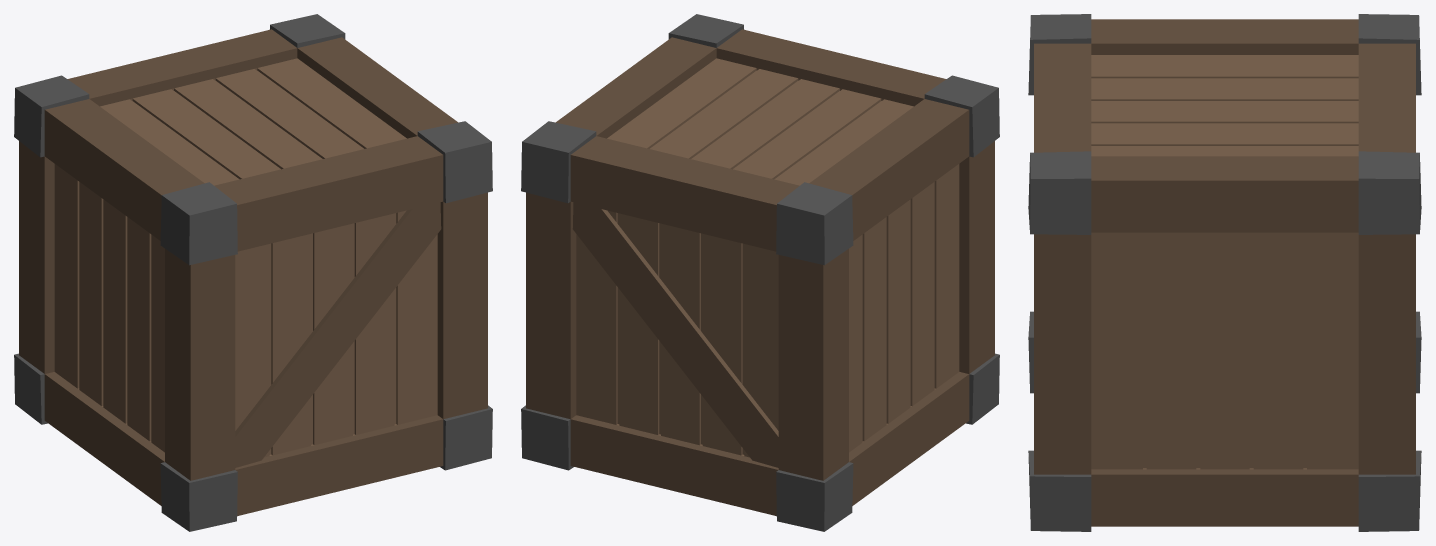
The model's file is Crate.fbx.
3 renders of one model, left to right at view 1: azimuth 30°, elevation 25°; view 2: azimuth 150°, elevation 25°; view 3: azimuth 270°, elevation 25°, orthographic. The views are drawn at different scales.
Parts seen in each view (by area): view 1: Edges; view 2: Edges; view 3: Edges.
Part boxes in pixels (bbox=[...]): Edges: bbox=[14, 14, 492, 531]; Edges: bbox=[521, 14, 999, 531]; Edges: bbox=[1028, 14, 1421, 531].
Size of the model in its own units: 247 by 247 by 247.
